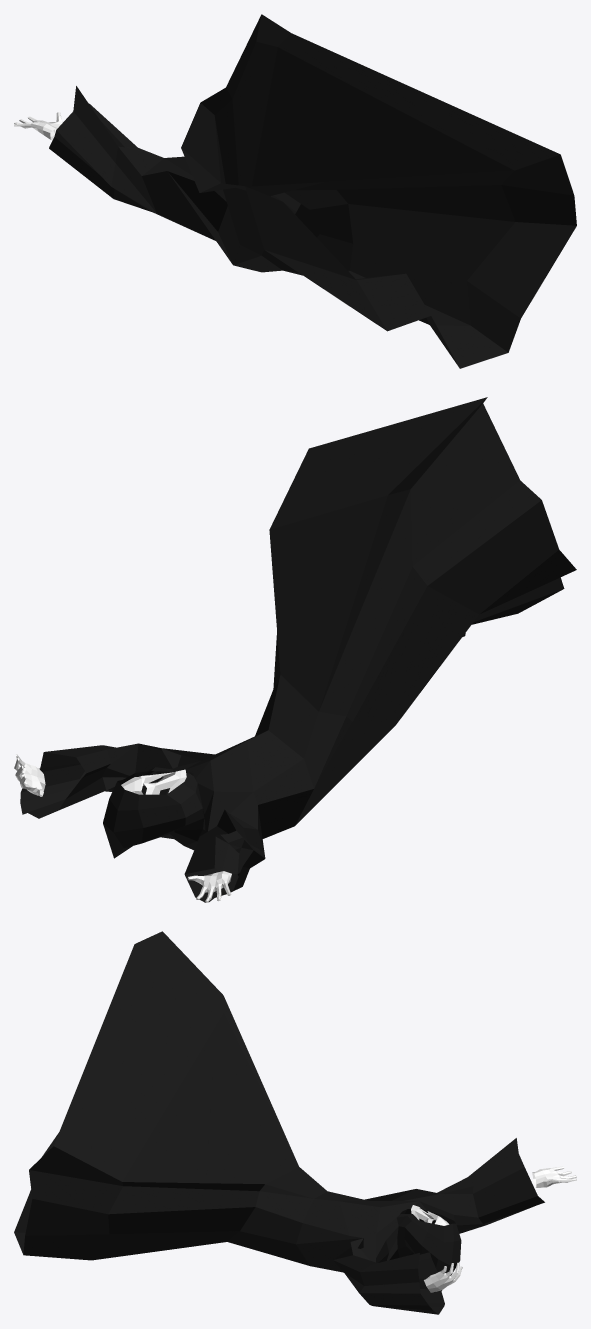
Rendered from ReaperDead(80).obj.
3 renders of one model, top to bottom at view 1: azimuth 30°, elevation 25°; view 2: azimuth 150°, elevation 25°; view 3: azimuth 270°, elevation 25°, orthographic. The views are drawn at different scales.
Parts seen in each view (by area): view 1: Plane003; view 2: Plane003; view 3: Plane003.
Boxes of the visible parts, x1,y1,x2,y2 form: Plane003: [14, 14, 576, 368]; Plane003: [14, 397, 576, 902]; Plane003: [14, 931, 576, 1314].
Bounding box in the file's own units: 162 × 156 × 271.
